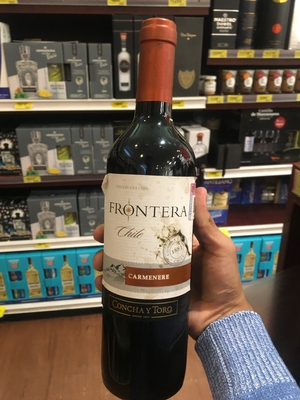frontera carmenere: (90, 18, 206, 400)
